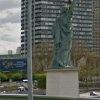Statue: (42, 0, 82, 76)
